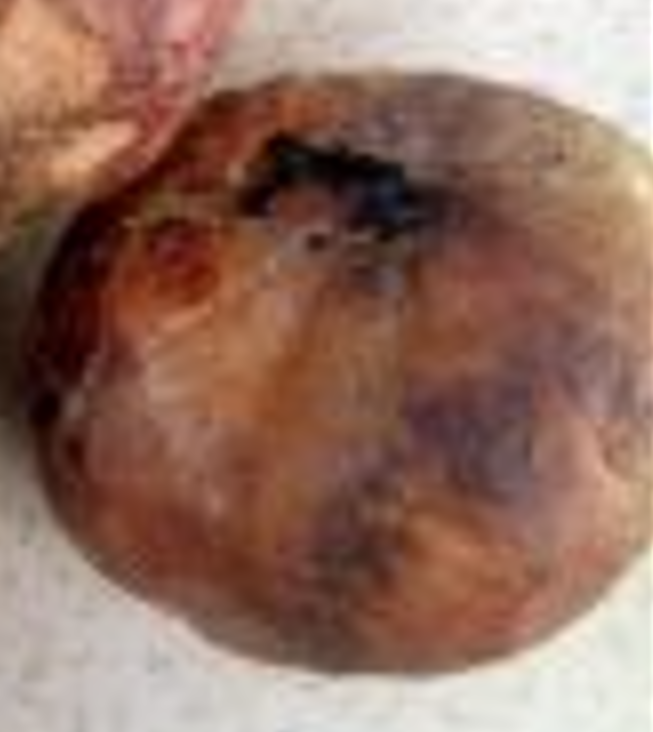guava_C: (22, 72, 653, 675)
